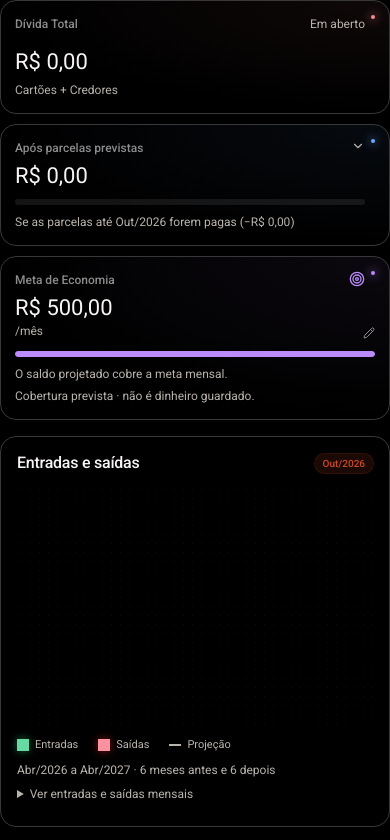
Test: correções de interação do dashboard › mantém a meta inválida aberta, anuncia o erro e aceita o envio do formulário com valor válido
Click the button with aria-label "Editar meta mensal de economia": (64, 308) [15,297,375,339]
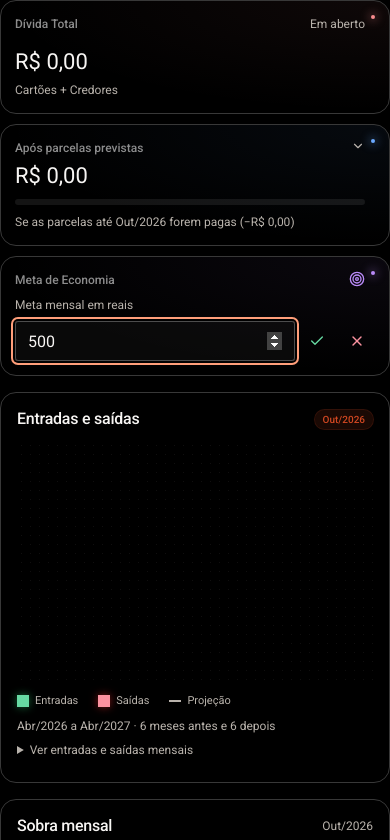
Replace the text in the number field labelled "Meta mensal em reais" with "-20": (155, 341) [15,321,295,361]
Click the button named "Salvar meta mensal de economia": (317, 341) [299,323,335,359]
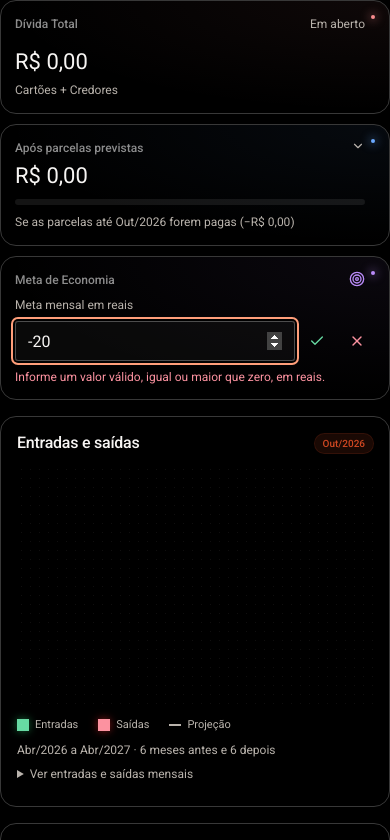
Result: the message shows "igual ou maior que zero" at [15,370,325,384]
Clear the number field labelled "Meta mensal em reais": (155, 341) [15,321,295,361]
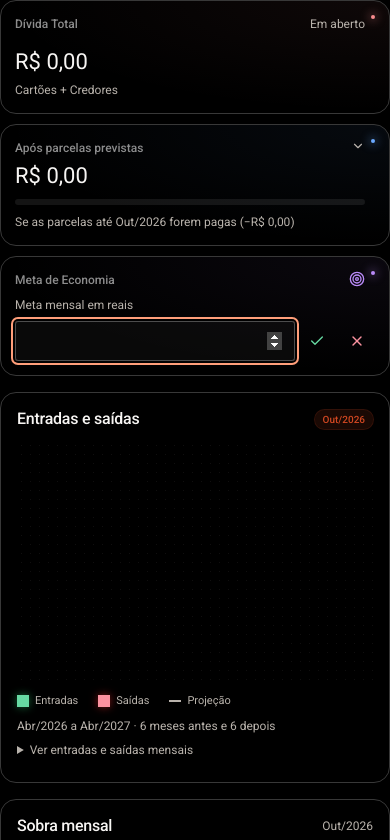
Submit the form labelled "Meta mensal em reais", box [15,297,375,361]
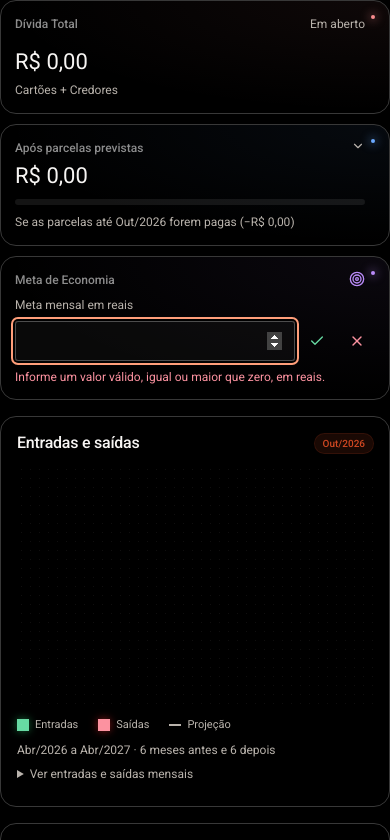
In the number field labelled "Meta mensal em reais": (155, 341) [15,321,295,361], type "650.25"
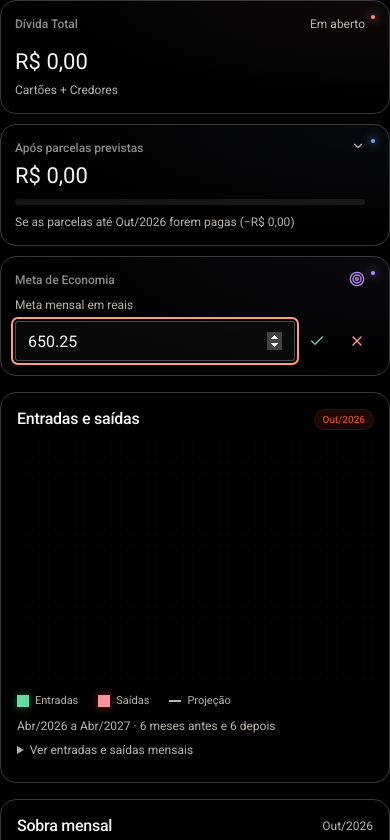
Submit the form labelled "Meta mensal em reais", box [15,297,375,361]
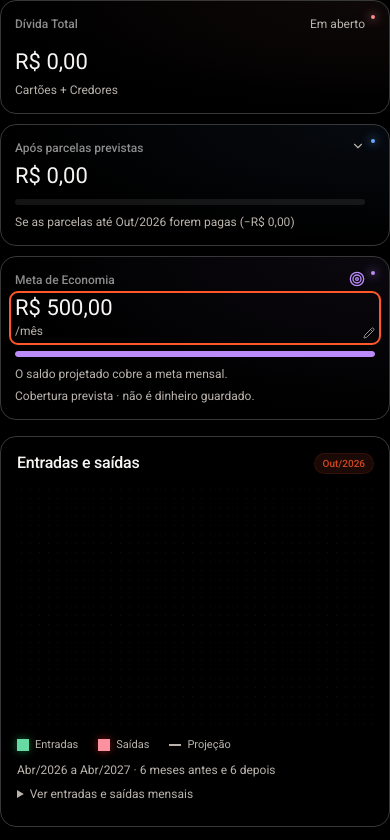
Result: the label labelled "Meta mensal em reais" is gone
